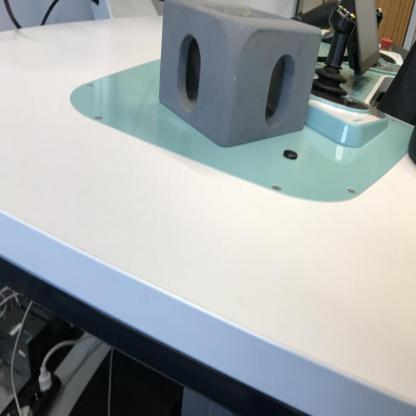CornerCasting: (152, 0, 325, 154)
